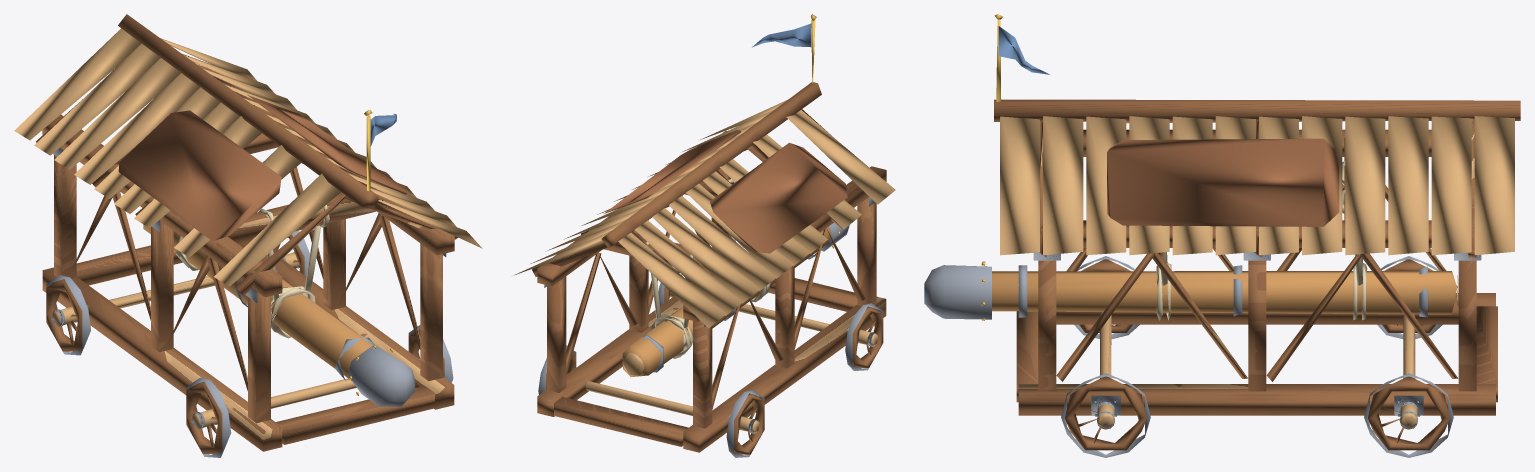
The picture shows the model from 3 angles, left to right: view 1: azimuth 30°, elevation 25°; view 2: azimuth 150°, elevation 25°; view 3: azimuth 270°, elevation 25°; orthographic projection. The views are drawn at different scales.
Parts seen in each view (by area): view 1: battering-ram_body, battering-ram_roof, battering-ram_ram_log, battering-ram_wheel_rear_left, battering-ram_wheel_front_left, battering-ram_sling_front, battering-ram_wheel_rear_right, battering-ram_wheel_front_right; view 2: battering-ram_body, battering-ram_roof, battering-ram_ram_log, battering-ram_wheel_front_left, battering-ram_wheel_rear_left; view 3: battering-ram_roof, battering-ram_body, battering-ram_ram_log, battering-ram_wheel_front_right, battering-ram_wheel_rear_right, battering-ram_wheel_front_left, battering-ram_wheel_rear_left.
Part boxes in pixels (x1,y1,x2,y2): battering-ram_body: (36,14,457,451); battering-ram_roof: (14,28,482,411); battering-ram_ram_log: (143,224,415,406); battering-ram_wheel_rear_left: (46,275,90,355); battering-ram_wheel_front_left: (186,377,231,457); battering-ram_sling_front: (258,205,329,301); battering-ram_wheel_rear_right: (273,230,309,276); battering-ram_wheel_front_right: (408,325,453,382); battering-ram_body: (532,82,886,452); battering-ram_roof: (514,14,895,418); battering-ram_ram_log: (622,222,849,376); battering-ram_wheel_front_left: (845,303,883,370); battering-ram_wheel_rear_left: (726,390,764,457); battering-ram_roof: (994,14,1514,416); battering-ram_body: (994,99,1520,415); battering-ram_ram_log: (924,261,1458,320); battering-ram_wheel_front_right: (1061,373,1150,457); battering-ram_wheel_rear_right: (1364,373,1453,457); battering-ram_wheel_front_left: (1074,256,1139,338); battering-ram_wheel_rear_left: (1377,256,1442,338).
Size of the model in its own units: 3.22 by 4.34 by 6.1.
9 materials, 1 textured.
